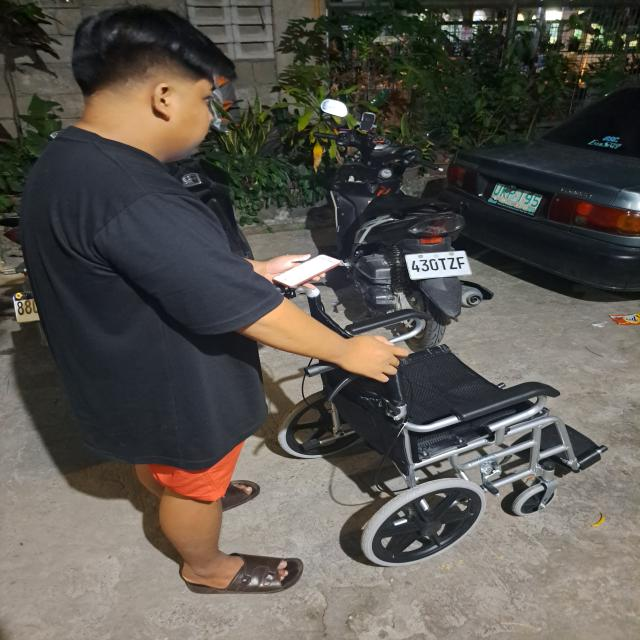wheelchairs: (284, 286, 618, 576)
